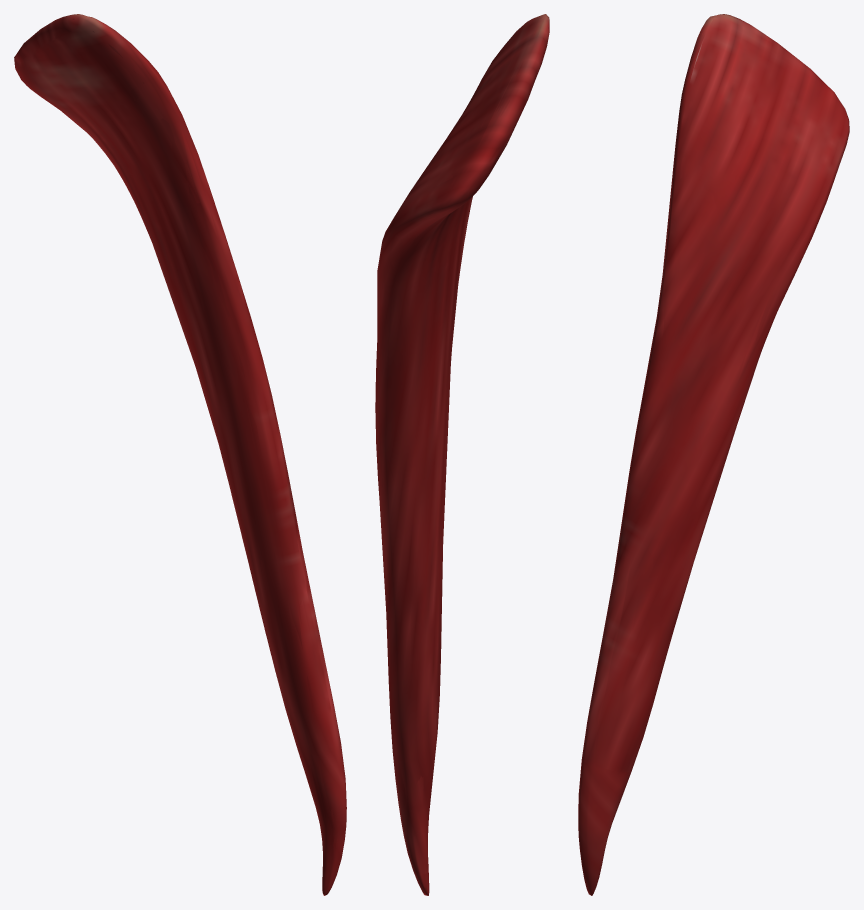
The model's file is L Rectus Femoris.fbx.
3 renders of one model, left to right at view 1: azimuth 30°, elevation 25°; view 2: azimuth 150°, elevation 25°; view 3: azimuth 270°, elevation 25°, orthographic. The views are drawn at different scales.
Visible parts, largest first — view 1: L Rectus Femoris, L Rectus Femoris low, L Rectus Femoris high; view 2: L Rectus Femoris, L Rectus Femoris low, L Rectus Femoris high; view 3: L Rectus Femoris, L Rectus Femoris low, L Rectus Femoris high.
Part boxes in pixels (x1,y1,x2,y2): L Rectus Femoris: (14, 14, 346, 895); L Rectus Femoris low: (14, 14, 346, 895); L Rectus Femoris high: (16, 16, 341, 885); L Rectus Femoris: (375, 14, 549, 895); L Rectus Femoris low: (375, 16, 547, 895); L Rectus Femoris high: (376, 16, 548, 890); L Rectus Femoris: (578, 14, 849, 895); L Rectus Femoris low: (578, 14, 848, 893); L Rectus Femoris high: (581, 17, 846, 884).
Bounding box in the file's own units: 2.23 × 8.95 × 2.74.
